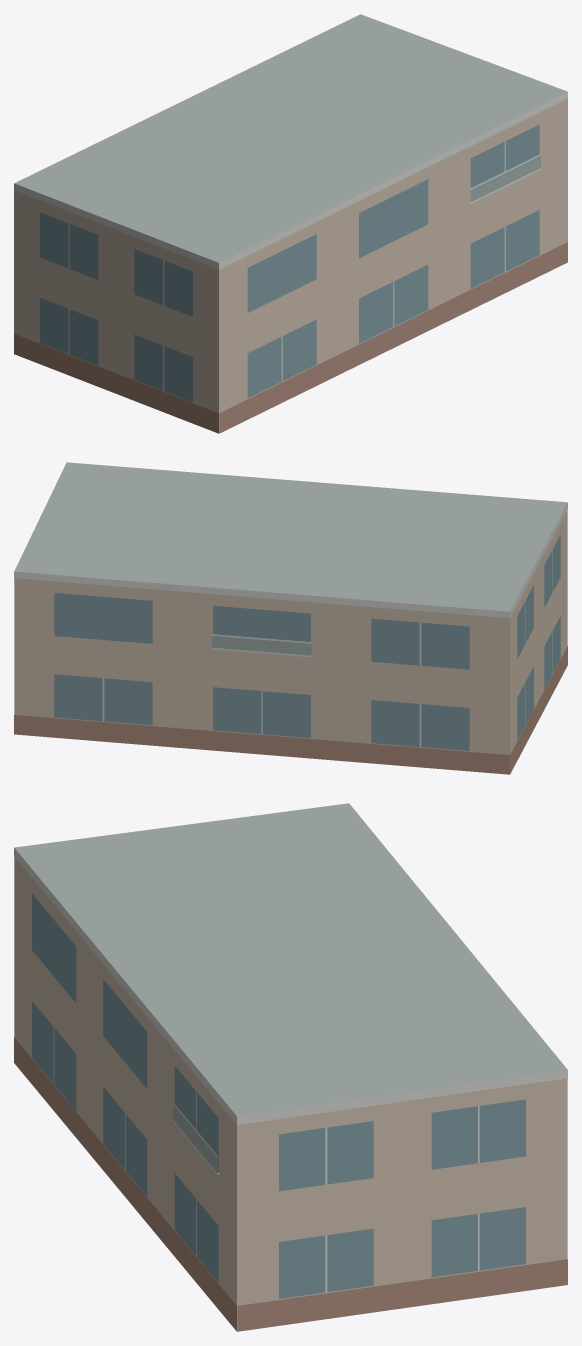
The model's file is survey-upis-32768227.glb.
3 views of the same model, one above another, from view 1: azimuth 30°, elevation 25°; view 2: azimuth 150°, elevation 25°; view 3: azimuth 270°, elevation 25° (orthographic). The views are drawn at different scales.
Visible parts, largest first — view 1: survey-upis-32768227.tmp; view 2: survey-upis-32768227.tmp; view 3: survey-upis-32768227.tmp.
Part boxes in pixels (x1,y1,x2,y2): survey-upis-32768227.tmp: [14, 14, 567, 433]; survey-upis-32768227.tmp: [14, 462, 567, 774]; survey-upis-32768227.tmp: [14, 803, 567, 1331].
Size of the model in its own units: 19.05 by 6.1 by 14.23.
